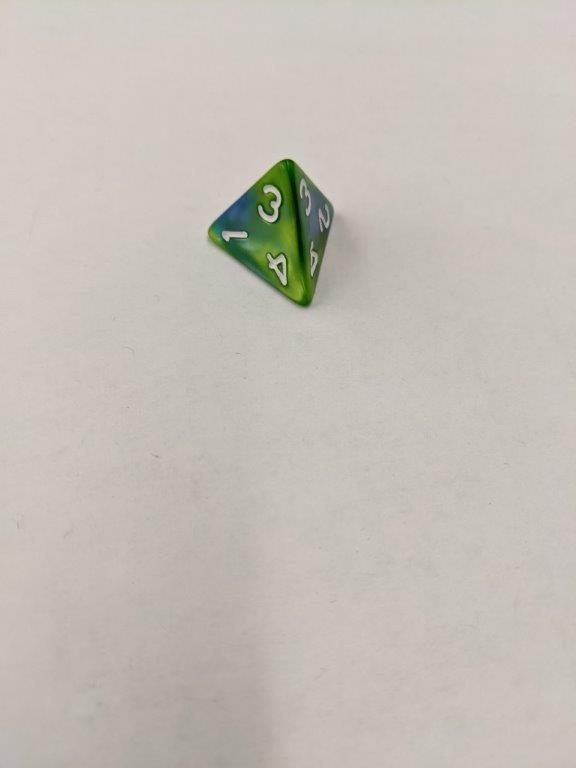d4-3: (205, 157, 340, 310)
